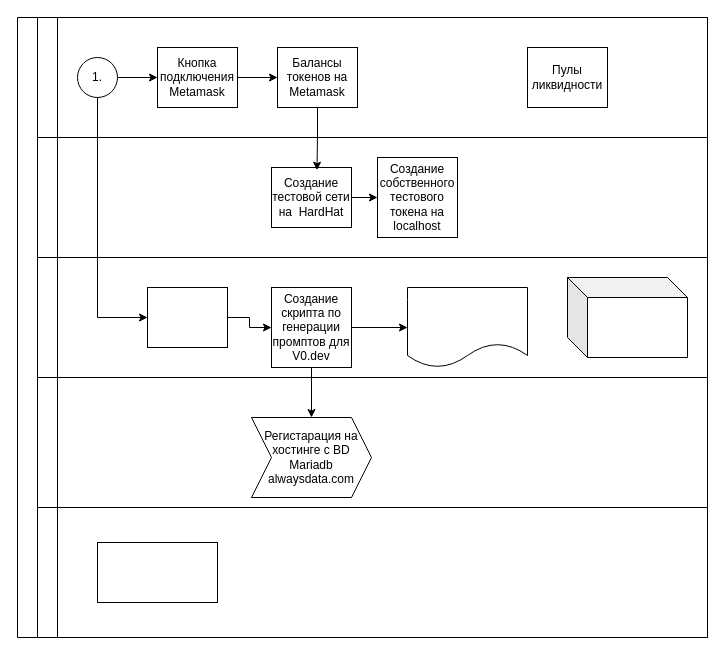
The diagram is 725 pixels wide and 655 high, and some of its shapes have lost their labels. The shapes that lost their labels are listed below. From the top down, each one's box as (x1, y1, x2, y2) in pixels, then its label:
(146, 286, 228, 348): Создание шаблона сайта на V0.dev
(406, 286, 528, 368): запуск ./Repo/1_Docs_/Celi.html
(566, 276, 688, 358): Страница с меню всех .md проекта
(96, 542, 218, 602): Создание интернет-магазина под WP "Око техники"
